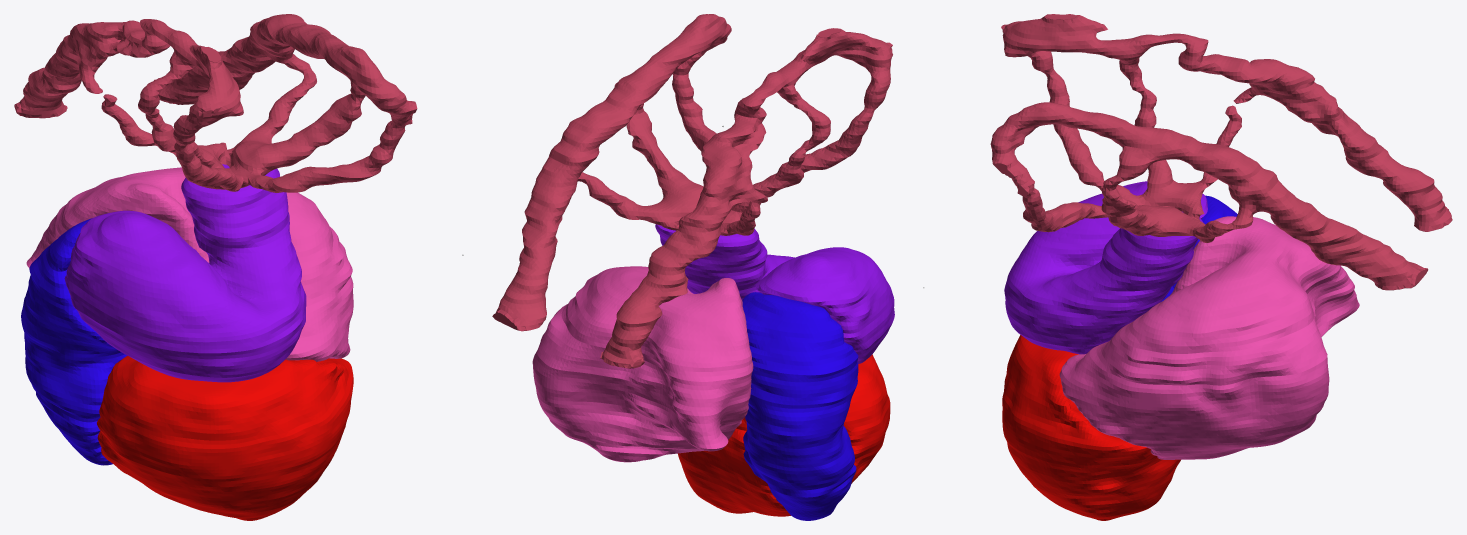
Rendered from CS12-N288-heart.glb.
3 renders of one model, left to right at view 1: azimuth 30°, elevation 25°; view 2: azimuth 150°, elevation 25°; view 3: azimuth 270°, elevation 25°, orthographic. The views are drawn at different scales.
Visible parts, largest first — view 1: N288_OFT, N288_arches, N288_left_ventricle, N288_atrium, N288_right_ventricle; view 2: N288_arches, N288_atrium, N288_right_ventricle, N288_OFT, N288_left_ventricle; view 3: N288_atrium, N288_arches, N288_OFT, N288_left_ventricle, N288_right_ventricle.
Part boxes in pixels (x1,y1,x2,y2): N288_OFT: (64,164,306,382); N288_arches: (14,14,417,192); N288_left_ventricle: (97,355,353,520); N288_atrium: (26,167,353,361); N288_right_ventricle: (21,218,127,465); N288_arches: (492,14,892,368); N288_atrium: (532,266,753,462); N288_right_ventricle: (742,292,858,520); N288_OFT: (655,224,894,363); N288_left_ventricle: (678,354,890,516); N288_atrium: (1059,216,1359,459); N288_arches: (990,14,1452,290); N288_OFT: (1004,181,1207,354); N288_left_ventricle: (1002,335,1180,520); N288_right_ventricle: (1149,195,1237,309).
Bounding box in the file's own units: 599 × 942 × 966.
